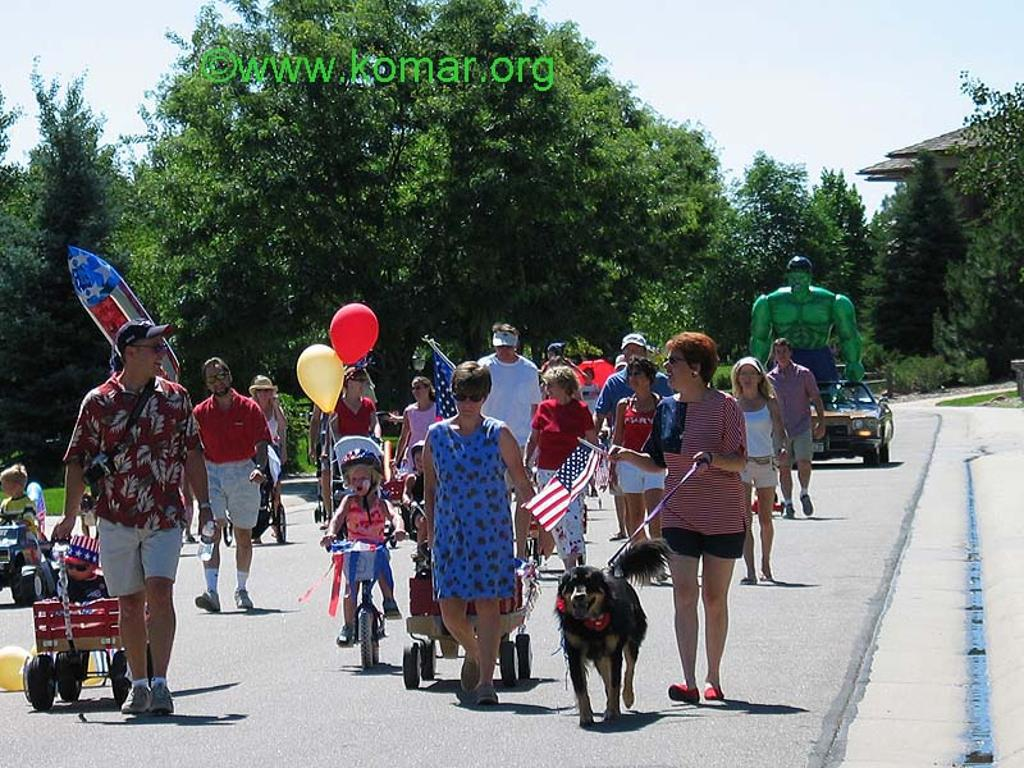face: (663, 344, 693, 388), (136, 335, 166, 375), (455, 382, 483, 415), (207, 364, 230, 395), (349, 465, 371, 497), (67, 557, 91, 580), (497, 336, 515, 361), (629, 364, 647, 388), (626, 344, 646, 365), (740, 366, 758, 388), (547, 377, 563, 398), (412, 380, 427, 401), (415, 451, 430, 472), (353, 372, 368, 391), (776, 344, 790, 362), (11, 475, 22, 497), (257, 385, 272, 400), (550, 352, 557, 361), (584, 375, 591, 382)
